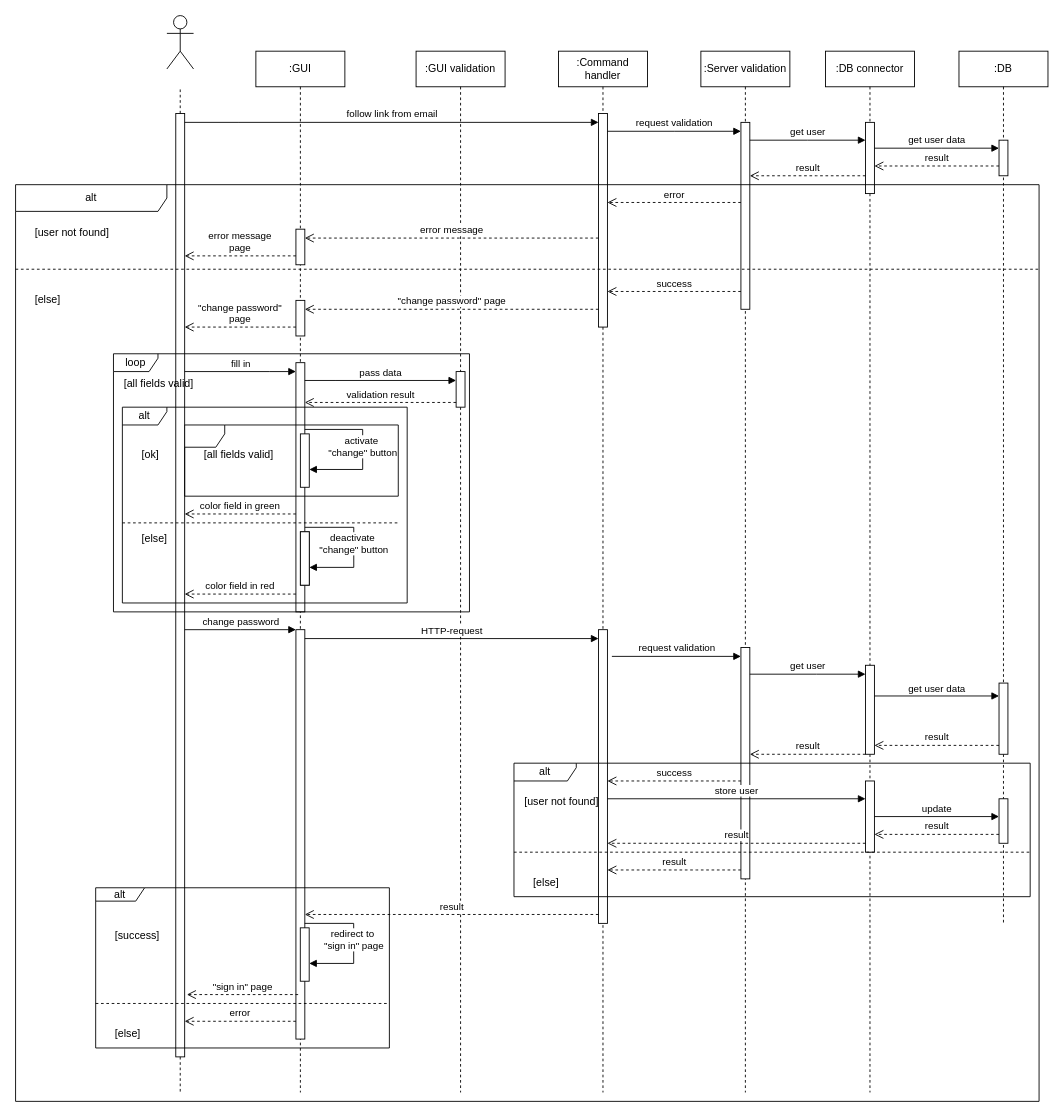
This 1064x1117 diagram has some shape labels left out. Here are the shapes that lost their labels. From the top down, the centre of each, then its label:
At point (180, 42): "Actor".
At point (291, 460): "opt".
